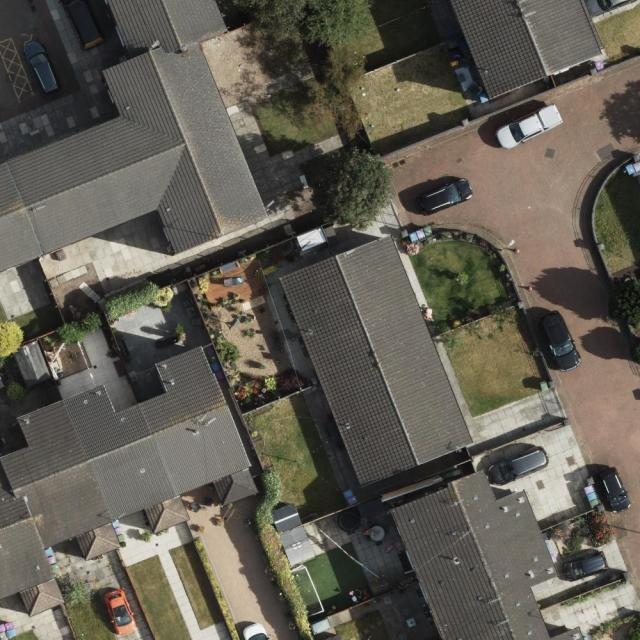roof: (0, 0, 269, 272), (0, 343, 265, 616), (279, 232, 474, 486), (390, 470, 584, 640), (447, 0, 606, 101)
